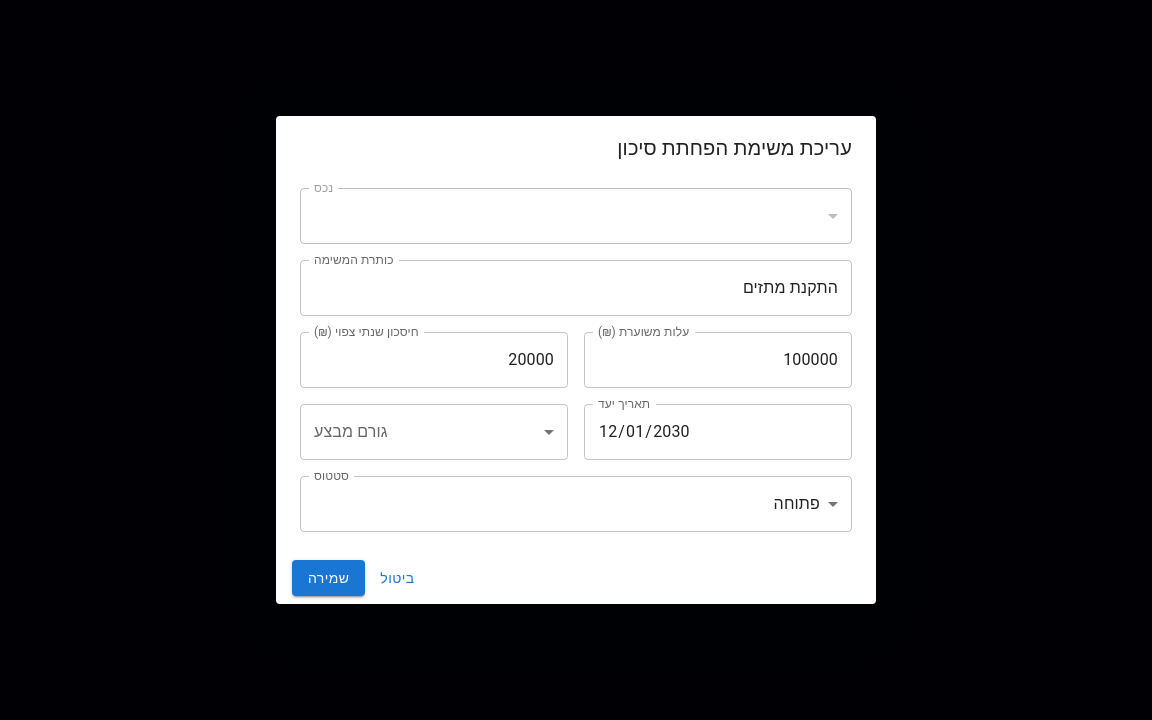
Test case: MitigationTaskDialog › doesn't offer OVERDUE as a status choice
Step 1. Click the dropdown named "סטטוס" → click(797, 504), box [774,494,820,513]
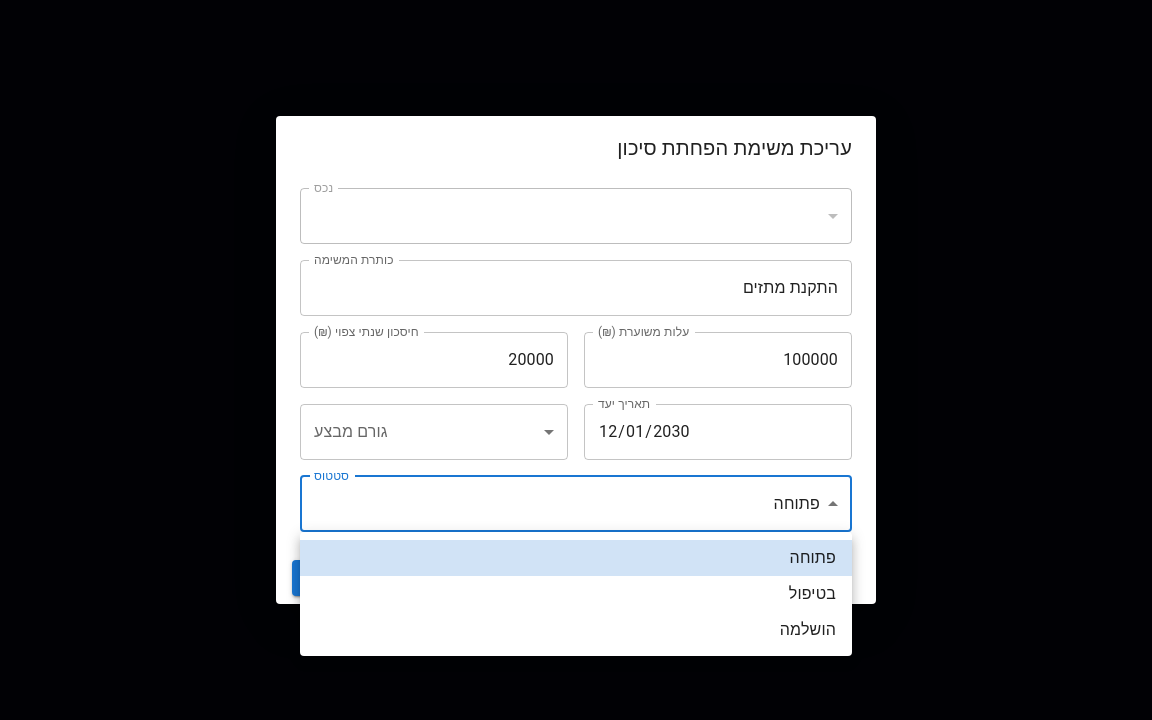
expect the options read "פתוחה", "בטיפול", "הושלמה", in this order: met, box [300,540,852,576]; [789,584,836,603]; [780,620,836,639]
